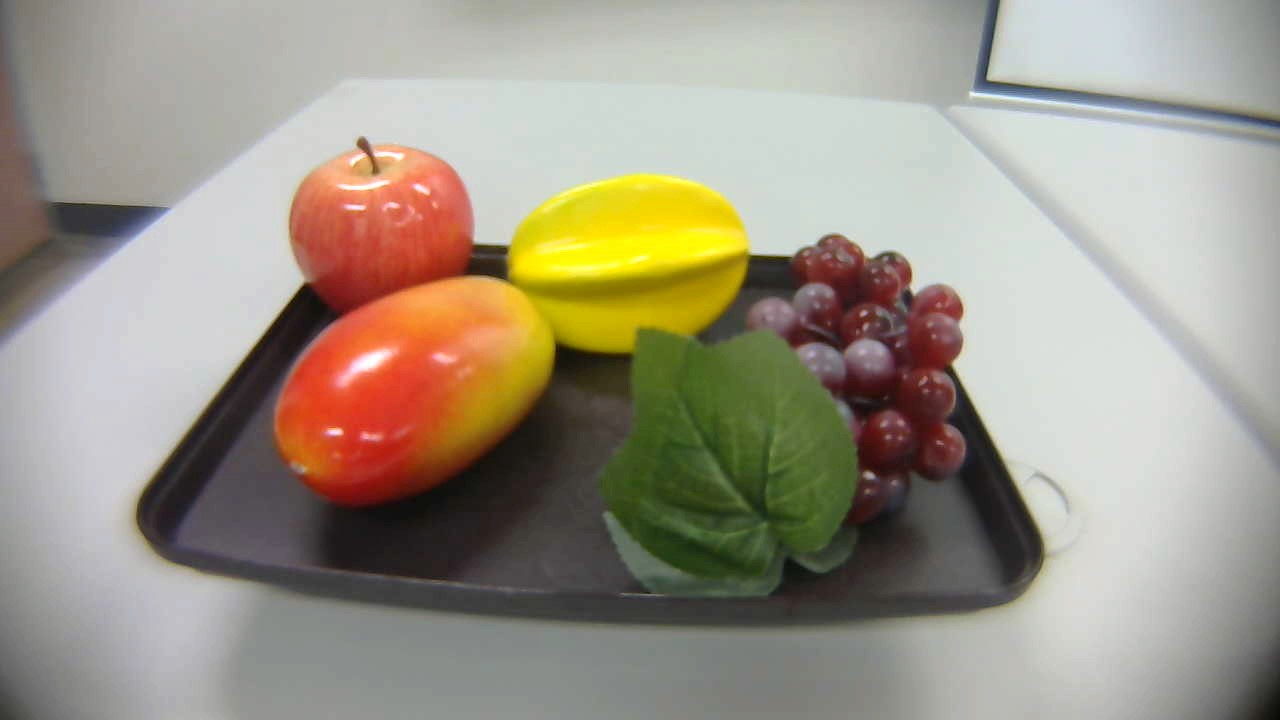grape: (588, 229, 985, 616)
red apple: (260, 134, 470, 319)
red mango: (255, 273, 565, 523)
star fruit: (495, 166, 757, 364)
